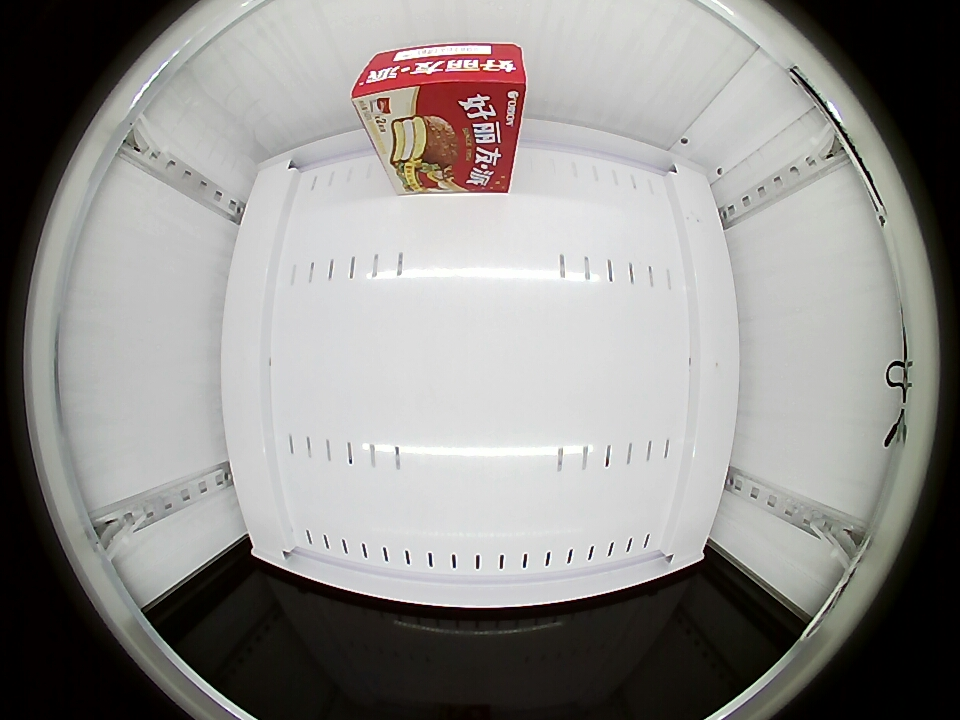haoliyou: (353, 43, 526, 149)
